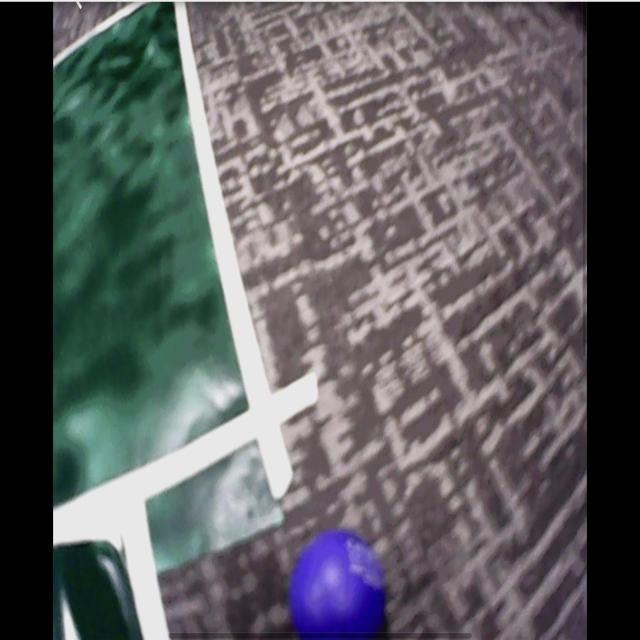ball: (290, 531, 386, 640)
